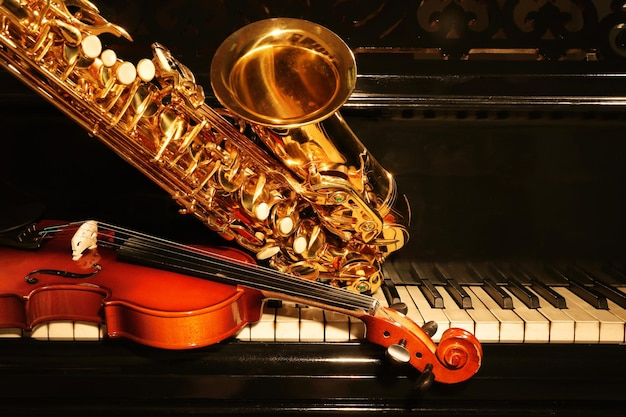Piano: (1, 184, 619, 417)
Saxophone: (1, 1, 437, 293)
Violin: (1, 208, 506, 401)
